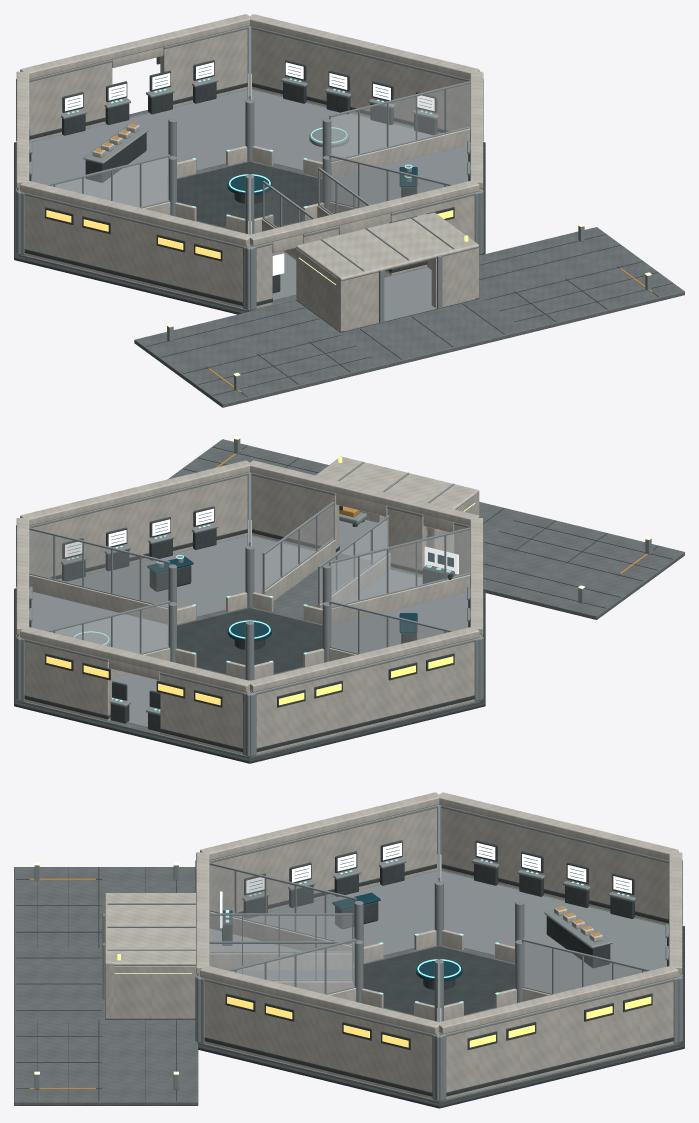
The model's file is hq-shell.glb.
3 renders of one model, top to bottom at view 1: azimuth 30°, elevation 25°; view 2: azimuth 150°, elevation 25°; view 3: azimuth 270°, elevation 25°, orthographic. The views are drawn at different scales.
Parts seen in each view (by area): view 1: MF_BaseFixed__structure_ivory_ceramic, MF_Court__court_weathered_basalt, MF_ShellCutaway_PartitionGlass__glass_partition, MF_ShellCutaway_FrontFlats__structure_ivory_ceramic, MF_Interior_implementation__room_inlay_implementation, MF_BaseFixed__structure_graphite_joints, MF_Roof__structure_ivory_ceramic, MF_Interior_review__room_inlay_review, MF_BaseFixed__brushed_titanium, MF_ShellCutaway_PartitionGlass__brushed_titanium, MF_Interior_testing__room_inlay_testing, MF_Interior_implementation__structure_graphite_joints (+11 smaller); view 2: MF_BaseFixed__structure_ivory_ceramic, MF_ShellCutaway_FrontFlats__structure_ivory_ceramic, MF_ShellCutaway_PartitionGlass__glass_partition, MF_Court__court_weathered_basalt, MF_BaseFixed__structure_graphite_joints, MF_BaseFixed__brushed_titanium, MF_Interior_testing__room_inlay_testing, MF_ShellCutaway_PartitionGlass__brushed_titanium, MF_Interior_review__room_inlay_review, MF_Interior_planning__room_inlay_planning, MF_BaseFixed__court_weathered_basalt, MF_Roof__structure_ivory_ceramic (+12 smaller); view 3: MF_BaseFixed__structure_ivory_ceramic, MF_Court__court_weathered_basalt, MF_ShellCutaway_FrontFlats__structure_ivory_ceramic, MF_ShellCutaway_PartitionGlass__glass_partition, MF_BaseFixed__structure_graphite_joints, MF_Interior_implementation__room_inlay_implementation, MF_BaseFixed__brushed_titanium, MF_Roof__structure_ivory_ceramic, MF_Interior_planning__room_inlay_planning, MF_ShellCutaway_PartitionGlass__brushed_titanium, MF_Interior_implementation__structure_graphite_joints, MF_Interior_planning__structure_graphite_joints (+14 smaller).
Part boxes in pixels (box(x1,y1,x2,y2)): MF_BaseFixed__structure_ivory_ceramic: box(16, 14, 479, 331); MF_Court__court_weathered_basalt: box(134, 227, 684, 407); MF_ShellCutaway_PartitionGlass__glass_partition: box(52, 84, 469, 227); MF_ShellCutaway_FrontFlats__structure_ivory_ceramic: box(248, 71, 483, 330); MF_Interior_implementation__room_inlay_implementation: box(31, 89, 247, 207); MF_BaseFixed__structure_graphite_joints: box(14, 57, 485, 332); MF_Roof__structure_ivory_ceramic: box(296, 212, 478, 280); MF_Interior_review__room_inlay_review: box(252, 89, 432, 169); MF_BaseFixed__brushed_titanium: box(16, 26, 483, 310); MF_ShellCutaway_PartitionGlass__brushed_titanium: box(46, 27, 470, 234); MF_Interior_testing__room_inlay_testing: box(332, 145, 468, 206); MF_Interior_implementation__structure_graphite_joints: box(29, 60, 216, 182); MF_BaseFixed__structure_ivory_ceramic: box(16, 494, 483, 754); MF_ShellCutaway_FrontFlats__structure_ivory_ceramic: box(20, 460, 479, 580); MF_ShellCutaway_PartitionGlass__glass_partition: box(29, 505, 469, 653); MF_Court__court_weathered_basalt: box(168, 439, 684, 619); MF_BaseFixed__structure_graphite_joints: box(14, 588, 485, 763); MF_BaseFixed__brushed_titanium: box(16, 545, 483, 756); MF_Interior_testing__room_inlay_testing: box(67, 536, 247, 615); MF_ShellCutaway_PartitionGlass__brushed_titanium: box(29, 473, 470, 654); MF_Interior_review__room_inlay_review: box(31, 592, 167, 653); MF_Interior_planning__room_inlay_planning: box(332, 591, 468, 653); MF_BaseFixed__court_weathered_basalt: box(18, 553, 481, 758); MF_Roof__structure_ivory_ceramic: box(315, 456, 478, 509); MF_BaseFixed__structure_ivory_ceramic: box(200, 792, 682, 1099); MF_Court__court_weathered_basalt: box(14, 867, 198, 1105); MF_ShellCutaway_FrontFlats__structure_ivory_ceramic: box(105, 852, 439, 1098); MF_ShellCutaway_PartitionGlass__glass_partition: box(209, 865, 645, 993); MF_BaseFixed__structure_graphite_joints: box(105, 864, 684, 1108); MF_Interior_implementation__room_inlay_implementation: box(441, 871, 666, 993); MF_BaseFixed__brushed_titanium: box(195, 805, 682, 1101); MF_Roof__structure_ivory_ceramic: box(105, 893, 195, 965); MF_Interior_planning__room_inlay_planning: box(249, 871, 436, 954); MF_ShellCutaway_PartitionGlass__brushed_titanium: box(209, 805, 651, 1021); MF_Interior_implementation__structure_graphite_joints: box(474, 840, 668, 968); MF_Interior_planning__structure_graphite_joints: box(243, 840, 404, 928).
Size of the model in its own units: 36.67 by 5.67 by 43.39.
Materials: 19 (3 with a texture image).
